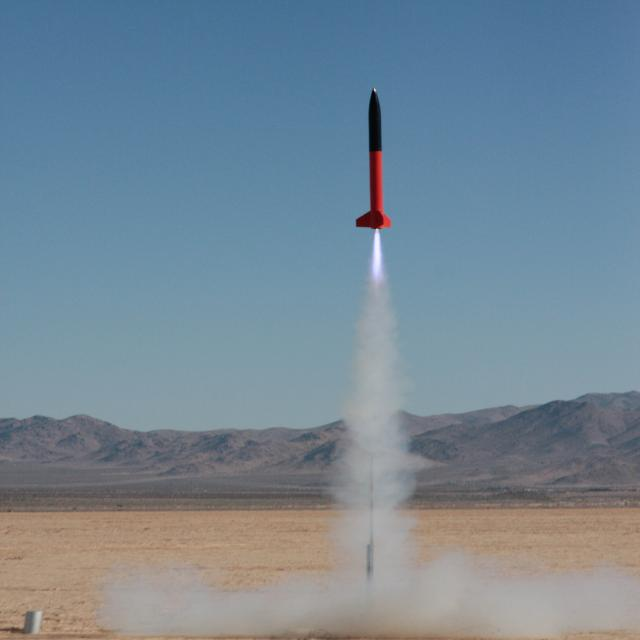Rocket: (356, 86, 394, 230)
